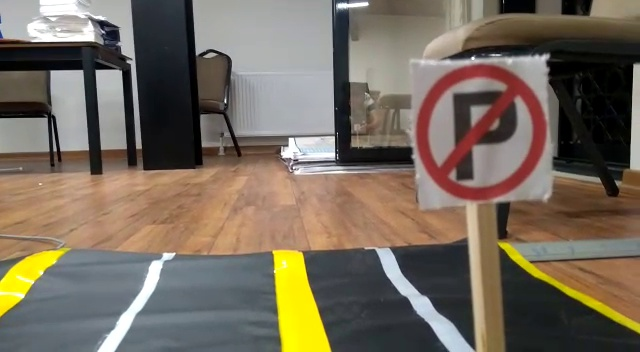park_yapilmaz: (408, 59, 548, 200)
